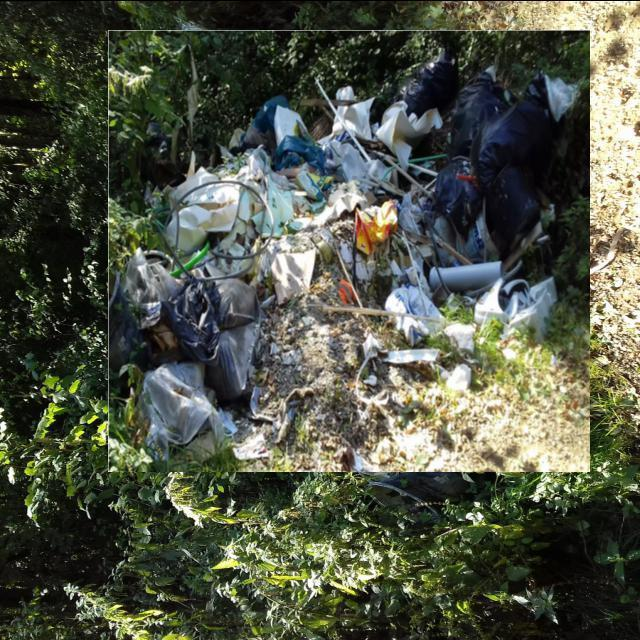Trashbag: (168, 279, 269, 396), (478, 84, 556, 174), (438, 152, 484, 241), (495, 165, 541, 252), (401, 55, 461, 116)
